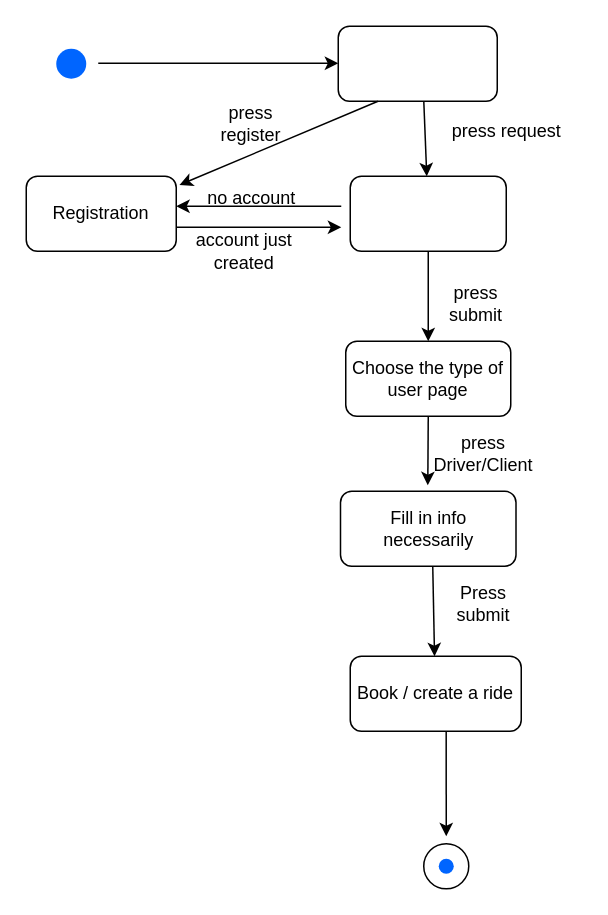
Image size: 608x915. Some labels were removed from this diagram. The centre of each missing label's shape, as x and y in pixels:
Login: the point at 427,213
Request logging into account: the point at 417,63
